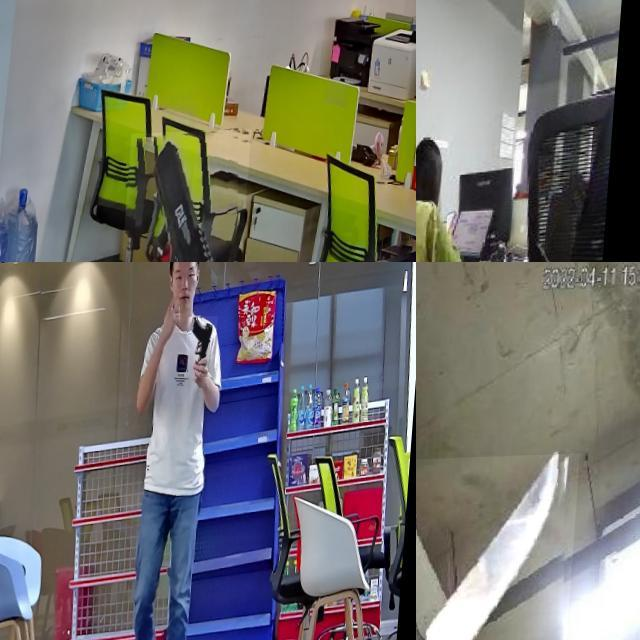-: (416, 457, 583, 640), (416, 193, 438, 244)
gun-knife-thesis - v11 Yolov5 augmented: (121, 132, 257, 262), (186, 319, 220, 382)
